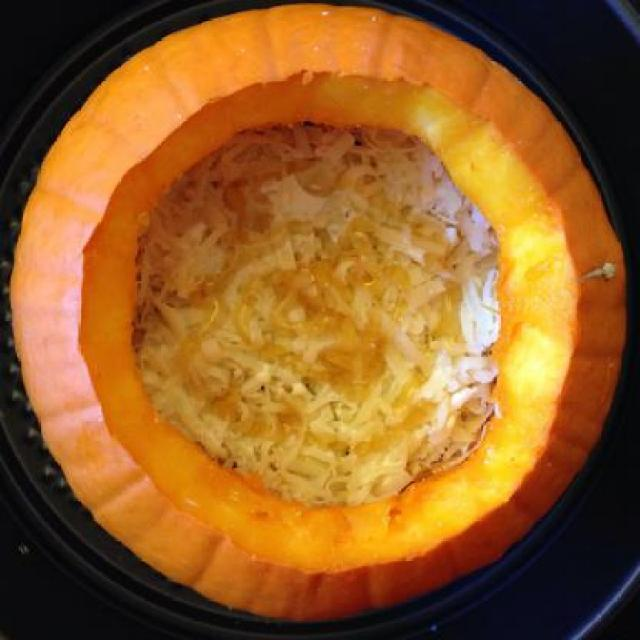Pumpkin: (6, 0, 631, 628)
